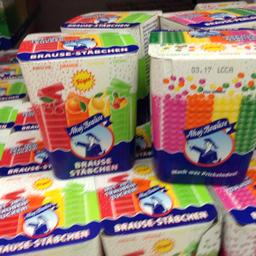candy: (12, 26, 140, 178), (148, 24, 254, 184)
